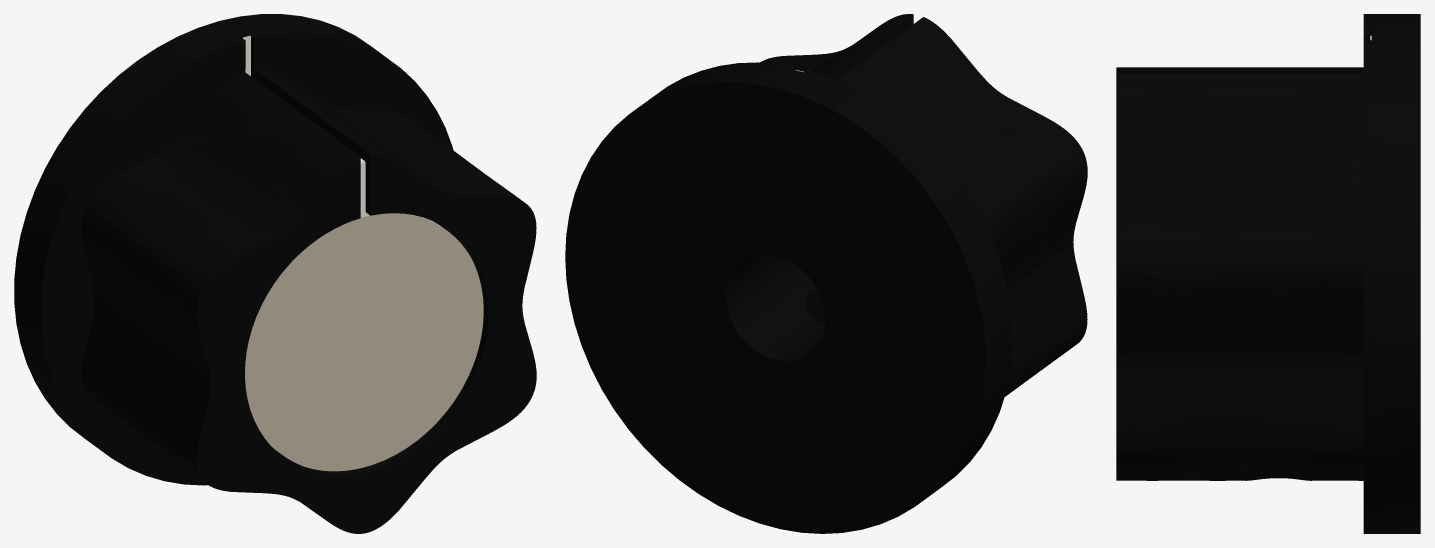
The model's file is .davies-1105.step.glb.
The picture shows the model from 3 angles, left to right: view 1: azimuth 30°, elevation 25°; view 2: azimuth 150°, elevation 25°; view 3: azimuth 270°, elevation 25°; orthographic projection. The views are drawn at different scales.
Visible parts, largest first — view 1: o1.1, o1.2; view 2: o1.1; view 3: o1.1.
Boxes of the visible parts, box(x1,y1,x2,y2) form: o1.1: box(14, 14, 536, 533); o1.2: box(245, 212, 483, 471); o1.1: box(565, 14, 1087, 533); o1.1: box(1116, 14, 1420, 533).
Size of the model in its own units: 0.0269 by 0.0269 by 0.0158.
